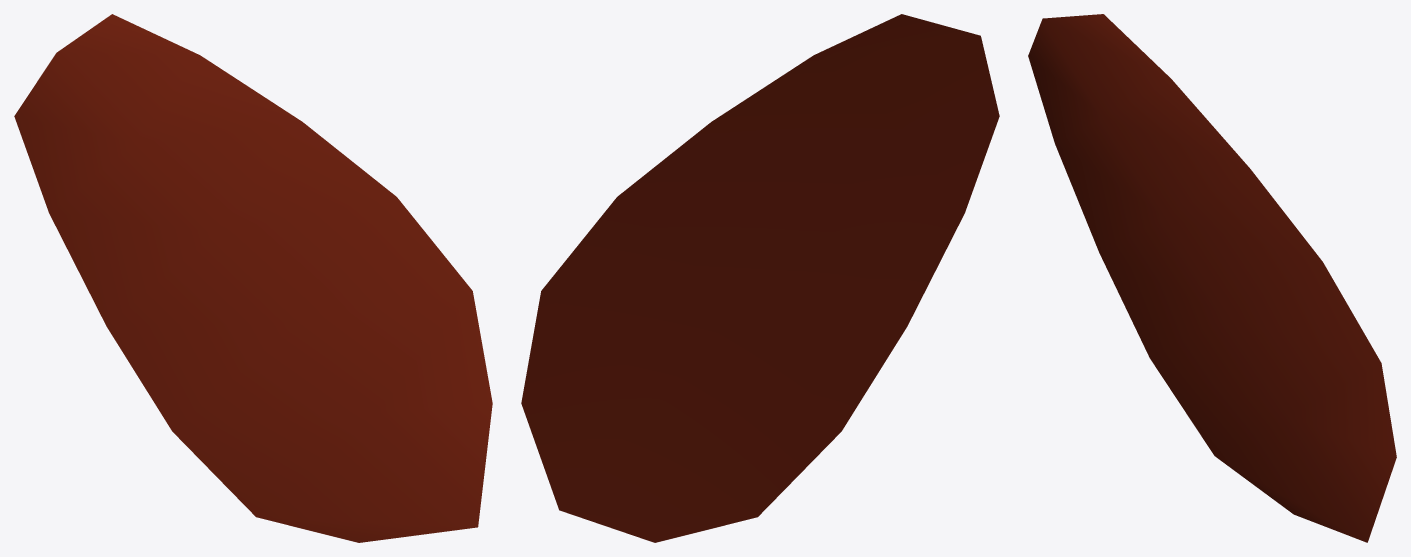
The model's file is pheasant_feather_flight_tertiary_035.obj.
3 renders of one model, left to right at view 1: azimuth 30°, elevation 25°; view 2: azimuth 150°, elevation 25°; view 3: azimuth 330°, elevation 25°, orthographic. The views are drawn at different scales.
Visible parts, largest first — view 1: feather_flight_tertiary_035; view 2: feather_flight_tertiary_035; view 3: feather_flight_tertiary_035.
Part boxes in pixels (x1=…): feather_flight_tertiary_035: x1=14, y1=14, x2=492, y2=542; feather_flight_tertiary_035: x1=521, y1=14, x2=999, y2=542; feather_flight_tertiary_035: x1=1028, y1=14, x2=1396, y2=542.
Size of the model in its own units: 0.015 by 0.0177 by 0.000634.
